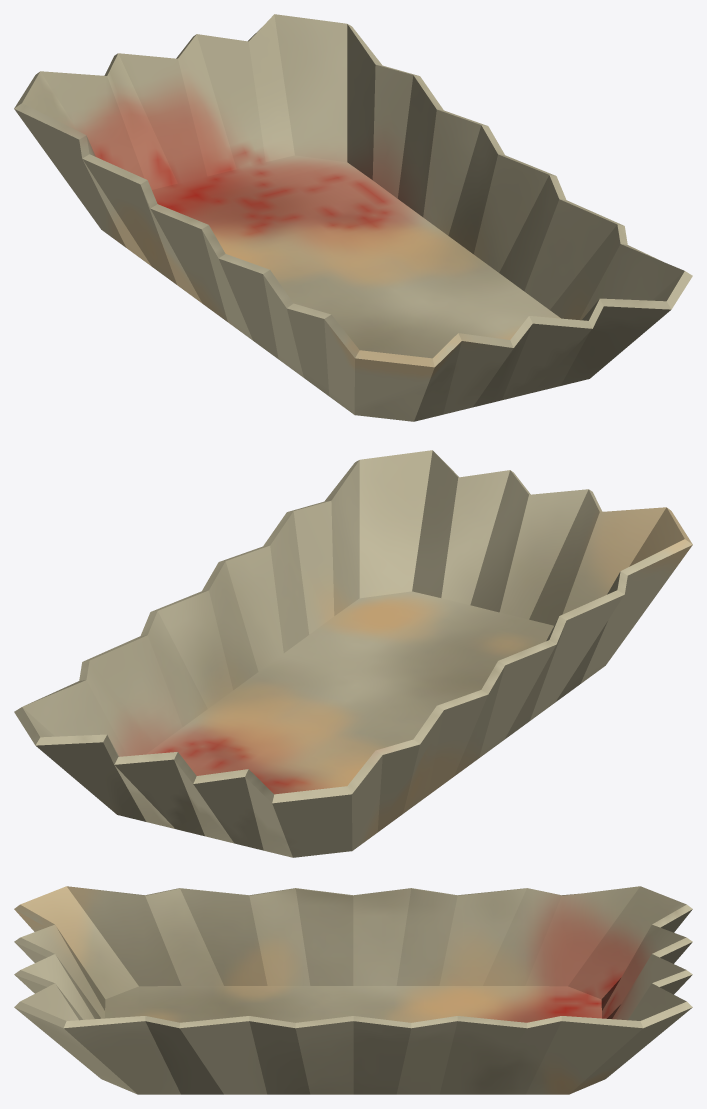
Rendered from Trash_Fries.fbx.
3 views of the same model, one above another, from view 1: azimuth 30°, elevation 25°; view 2: azimuth 150°, elevation 25°; view 3: azimuth 270°, elevation 25° (orthographic). The views are drawn at different scales.
Parts seen in each view (by area): view 1: MeshFries; view 2: MeshFries; view 3: MeshFries.
Part boxes in pixels (box(x1,y1,x2,y2)): MeshFries: box(14, 14, 692, 421); MeshFries: box(14, 450, 692, 857); MeshFries: box(14, 886, 692, 1094).
Bounding box in the file's own units: 10.23 × 3.05 × 20.94.
